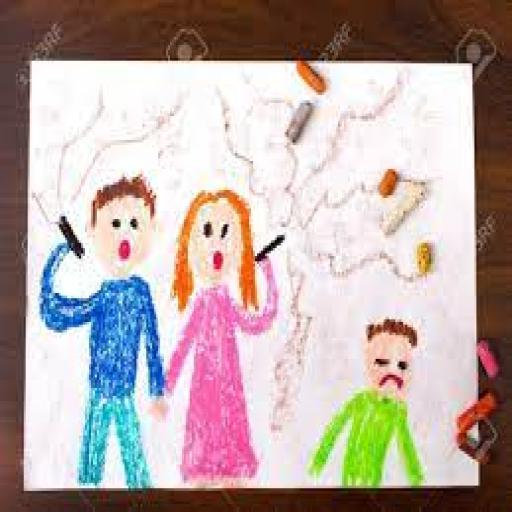person: (38, 177, 170, 491), (169, 188, 277, 488), (306, 314, 442, 488)
